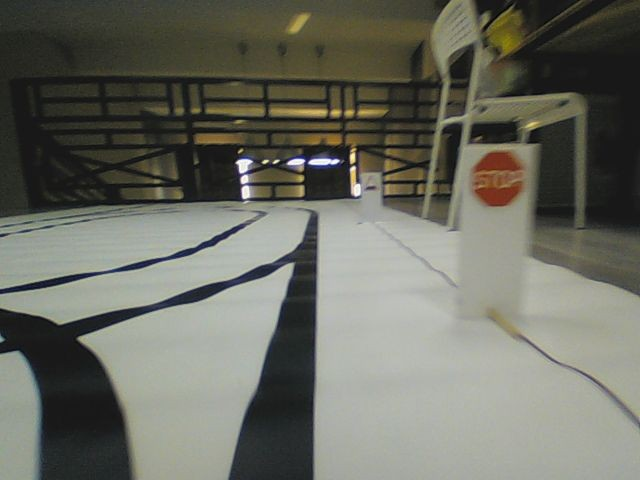Stop: (470, 149, 525, 207)
